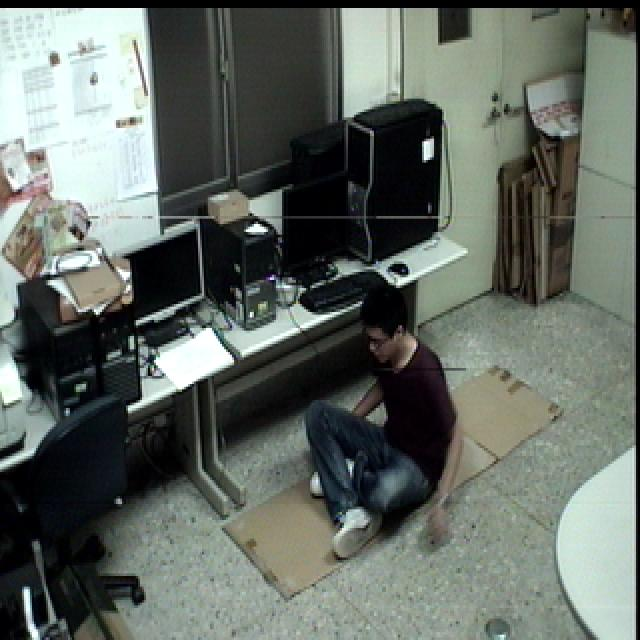sit: (295, 278, 466, 561)
